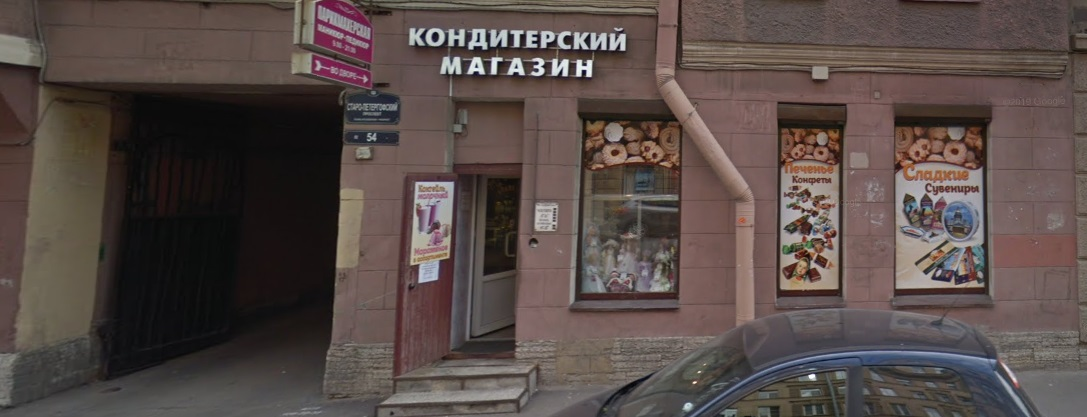arch: (24, 78, 338, 400)
cantilever: (293, 1, 376, 95)
door: (397, 166, 516, 369)
signboard: (409, 28, 632, 78)
window: (575, 107, 681, 300), (894, 113, 989, 294), (775, 106, 844, 296)
